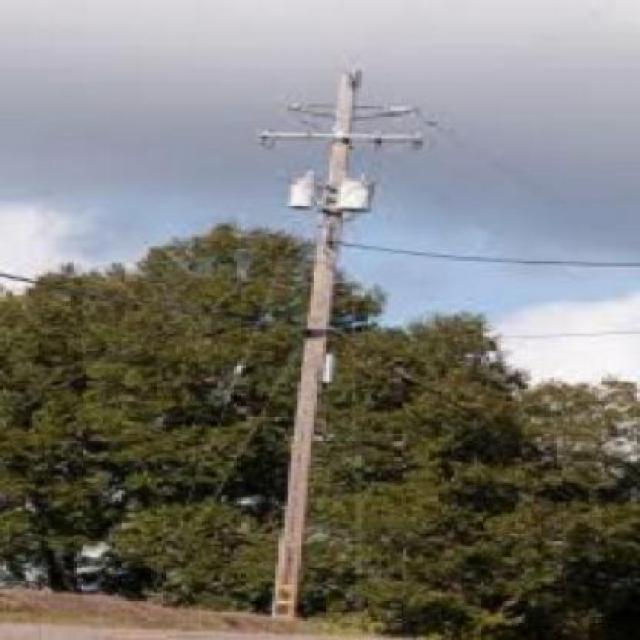pole: (246, 54, 426, 626)
